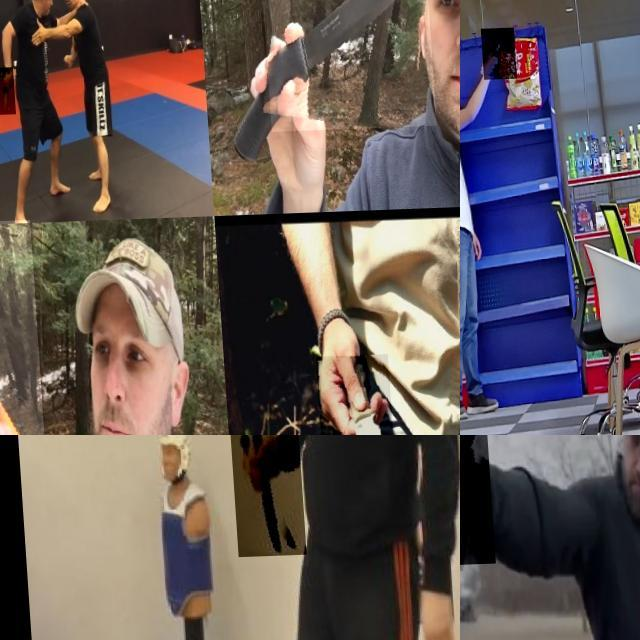-: (257, 0, 433, 135), (0, 221, 76, 435), (224, 435, 299, 558), (309, 357, 389, 435), (0, 68, 13, 115)
gun-knife-thesis - v11 Yolov5 augmented: (460, 435, 537, 569), (480, 32, 516, 84)
